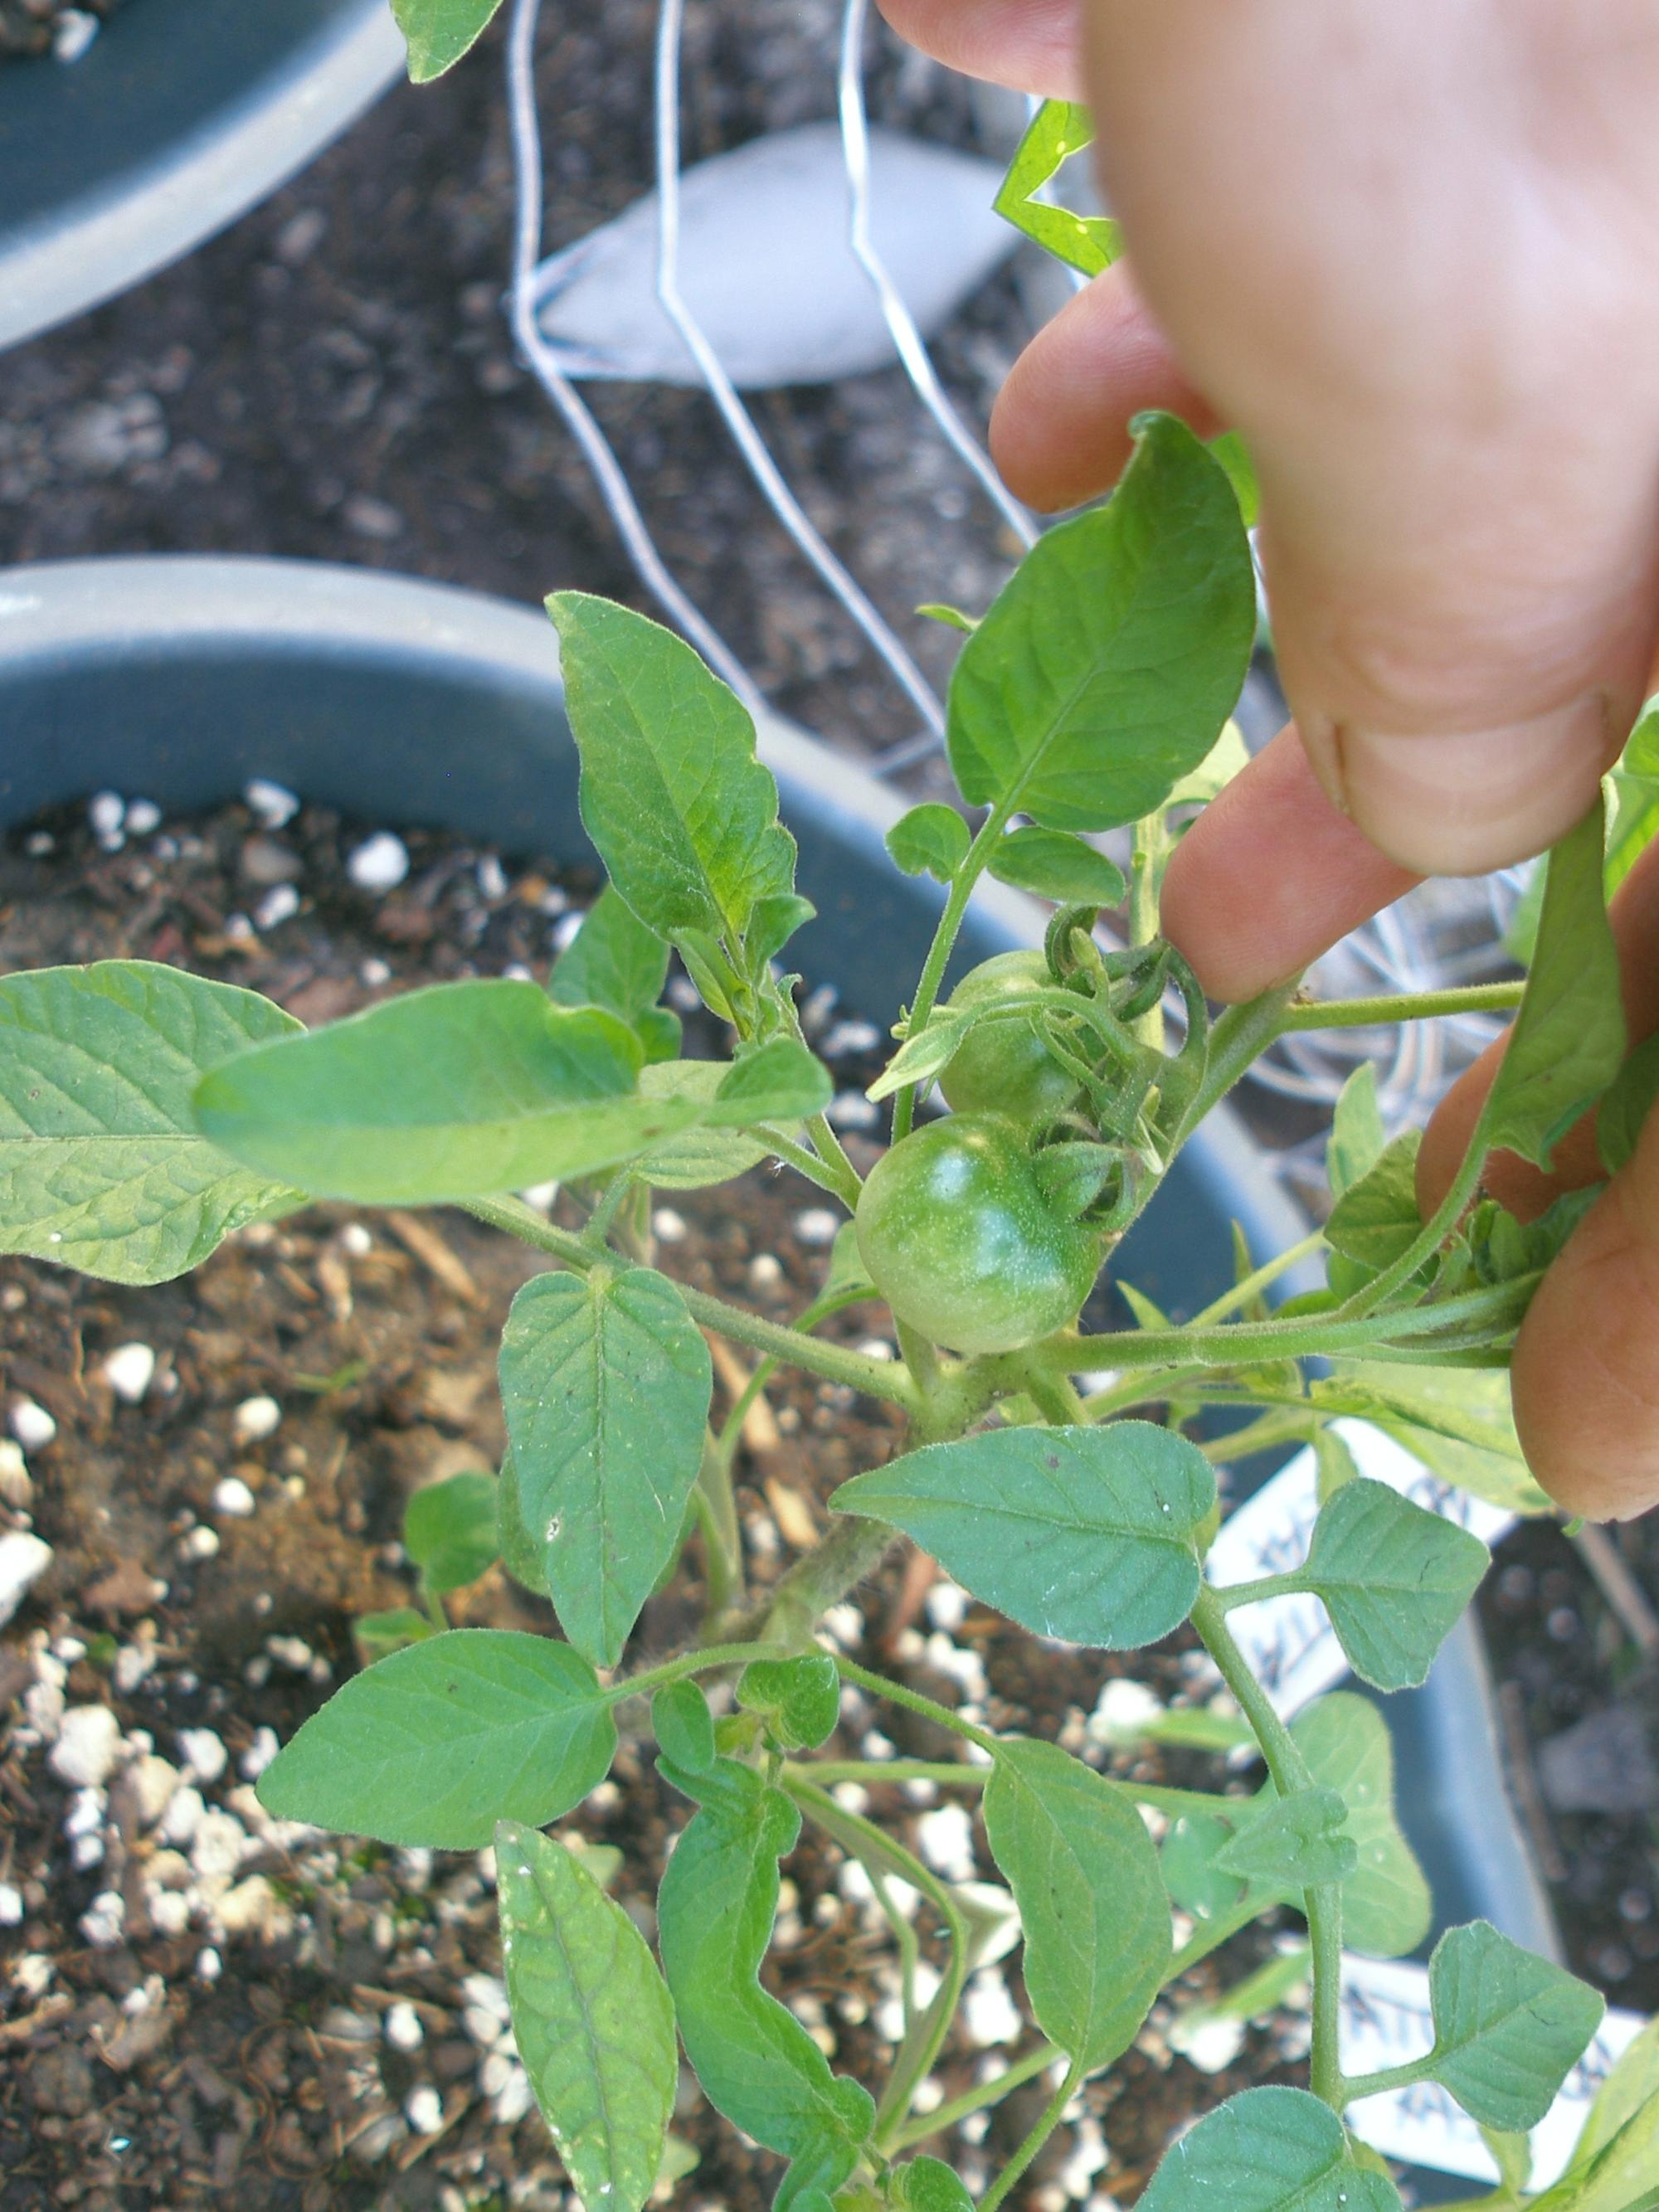Tomato leaf: (803, 373, 1361, 925), (0, 829, 418, 1482), (387, 1190, 805, 1705), (448, 467, 878, 941), (183, 1559, 671, 1939), (138, 928, 676, 1271), (843, 1318, 1265, 1745), (584, 1683, 870, 2008)
